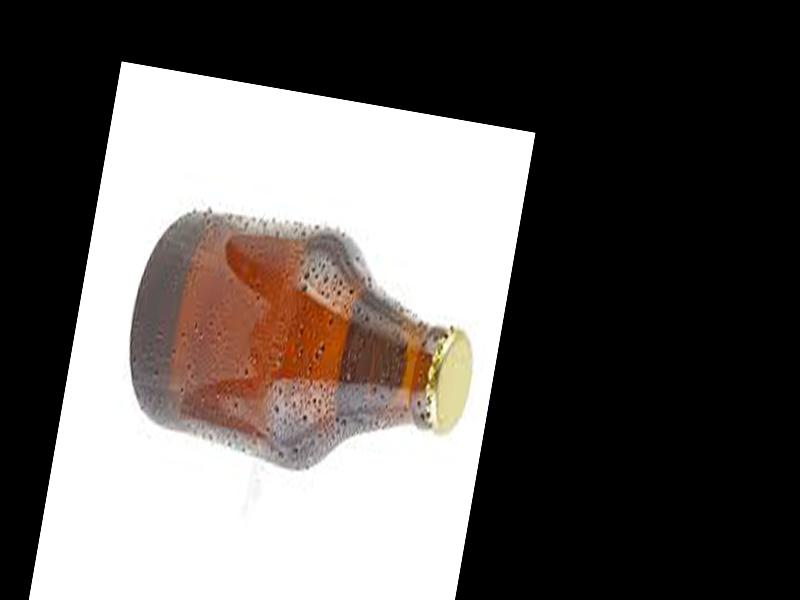Beer: (116, 203, 491, 479)
